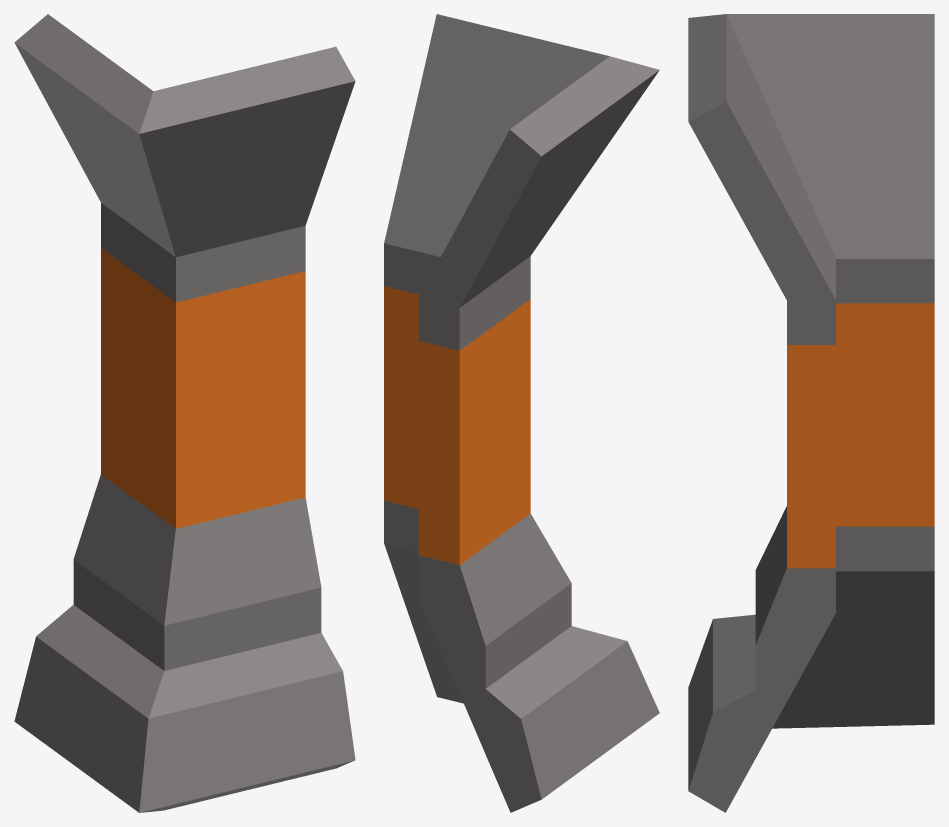
The model's file is scifi-wall-corridor-edge-stripe.glb.
3 renders of one model, left to right at view 1: azimuth 30°, elevation 25°; view 2: azimuth 150°, elevation 25°; view 3: azimuth 270°, elevation 25°, orthographic. The views are drawn at different scales.
Visible parts, largest first — view 1: scifi-wall-corridor-edge-stripe; view 2: scifi-wall-corridor-edge-stripe; view 3: scifi-wall-corridor-edge-stripe.
Part boxes in pixels (x1,y1,x2,y2): scifi-wall-corridor-edge-stripe: (14,14,355,812); scifi-wall-corridor-edge-stripe: (384,14,659,812); scifi-wall-corridor-edge-stripe: (688,14,934,812).
Size of the model in its own units: 1 by 3.19 by 1.
Materials: 1 (1 with a texture image).
